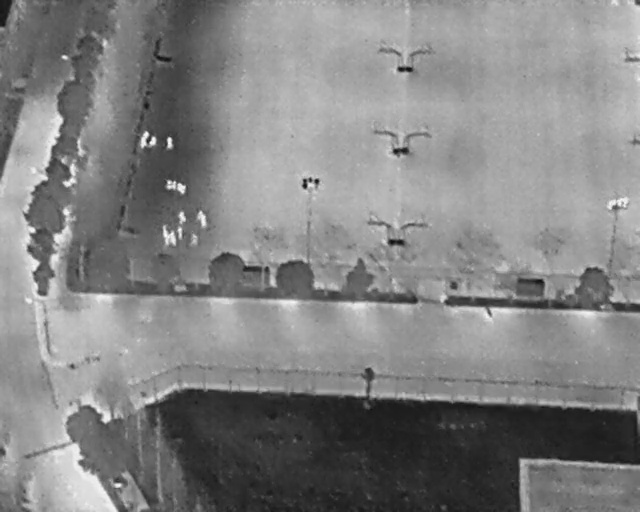Person: (169, 231, 177, 246), (178, 211, 187, 224), (167, 137, 174, 150), (162, 224, 169, 237), (150, 135, 157, 147), (140, 137, 147, 149), (142, 130, 149, 142), (177, 226, 183, 240), (191, 234, 198, 246), (196, 209, 203, 220), (164, 234, 170, 246), (201, 216, 207, 227)
